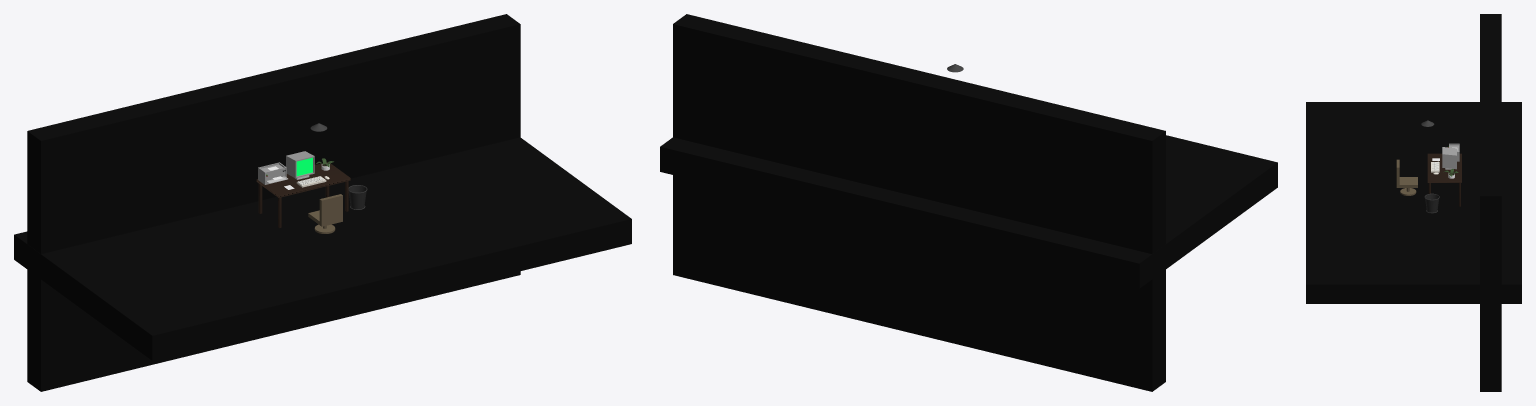
The model's file is website.glb.
The picture shows the model from 3 angles, left to right: view 1: azimuth 30°, elevation 25°; view 2: azimuth 150°, elevation 25°; view 3: azimuth 270°, elevation 25°; orthographic projection. The views are drawn at different scales.
Parts seen in each view (by area): view 1: Cube.002, Cube.003, mesa, Cube.004; view 2: Cube.002, Cube.003; view 3: Cube.003, Cube.002, mesa, monitor, Bin_Body, Cube.
Boxes of the visible parts, box(x1,y1,x2,y2) form: Cube.002: box(27, 14, 520, 391); Cube.003: box(14, 137, 631, 360); mesa: box(256, 162, 350, 197); Cube.004: box(319, 194, 342, 226); Cube.002: box(673, 14, 1165, 391); Cube.003: box(660, 135, 1277, 288); Cube.003: box(1306, 102, 1521, 303); Cube.002: box(1480, 14, 1501, 391); mesa: box(1427, 153, 1461, 182); monitor: box(1442, 147, 1456, 169); Bin_Body: box(1425, 194, 1439, 212); Cube: box(1398, 177, 1417, 187).
Bounding box in the file's own units: 20.01 × 10 × 10.
